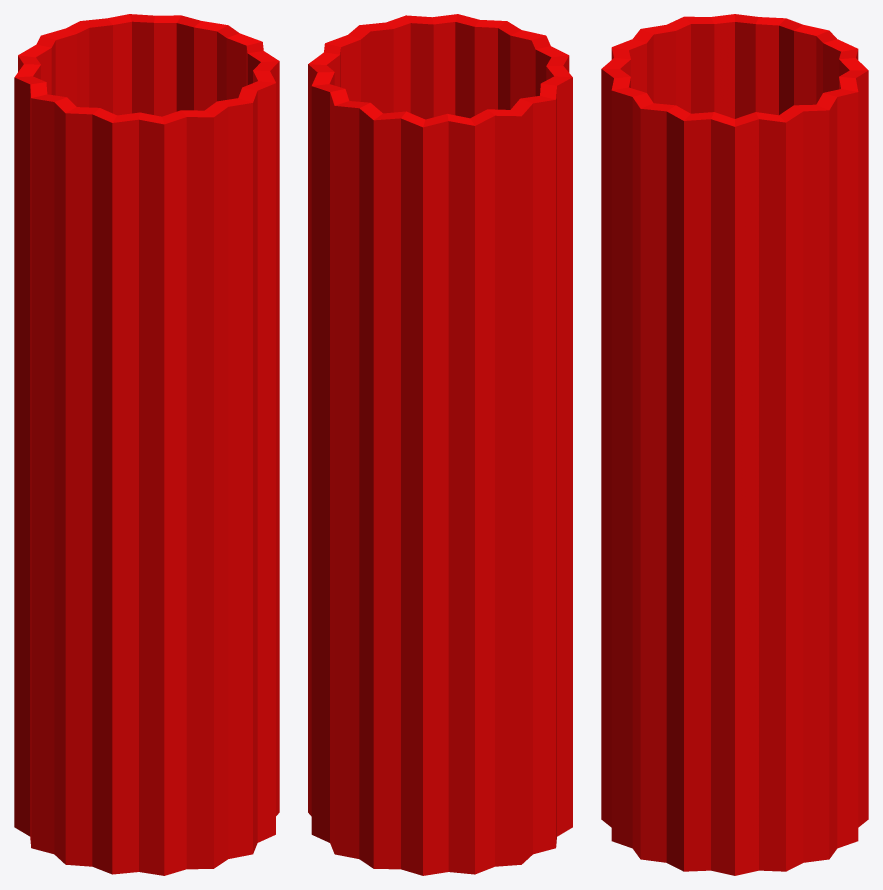
The model's file is pasta shot.obj.
3 renders of one model, left to right at view 1: azimuth 30°, elevation 25°; view 2: azimuth 150°, elevation 25°; view 3: azimuth 270°, elevation 25°, orthographic.
Visible parts, largest first — view 1: Cylinder; view 2: Cylinder; view 3: Cylinder.
Part boxes in pixels (<box>): Cylinder: <box>14,14,279,875</box>; Cylinder: <box>308,14,572,875</box>; Cylinder: <box>601,14,868,875</box>.
Bounding box in the file's own units: 0.8535 × 2.65 × 0.8535.
